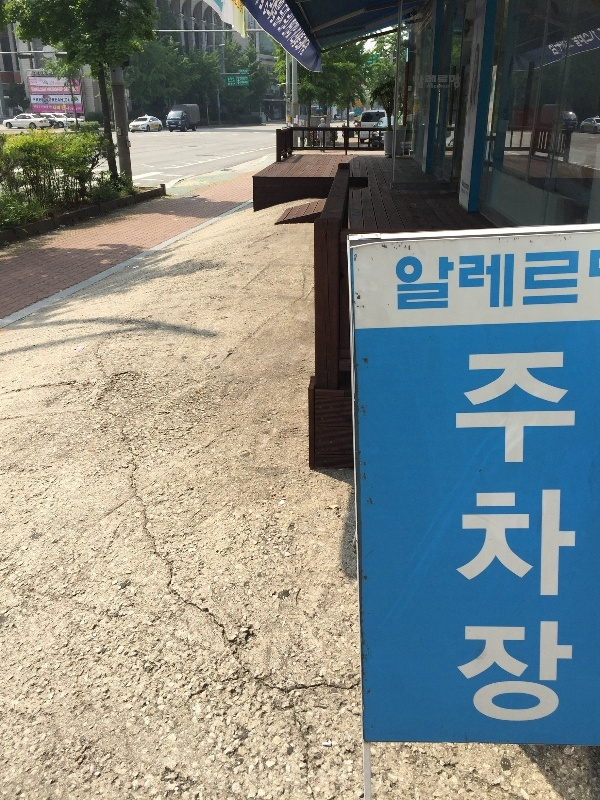text: (465, 344, 480, 734), (481, 344, 496, 734), (497, 344, 512, 734), (513, 344, 528, 734), (529, 344, 544, 734), (545, 344, 560, 734), (561, 344, 576, 734), (452, 344, 464, 734), (401, 247, 416, 316), (417, 247, 432, 316), (433, 247, 448, 316), (449, 247, 464, 316), (465, 247, 480, 316), (481, 247, 496, 316), (497, 247, 512, 316), (513, 247, 528, 316), (529, 247, 544, 316), (545, 247, 560, 316), (561, 247, 576, 316), (257, 1, 272, 60), (273, 1, 288, 60), (289, 1, 304, 60), (577, 344, 578, 734), (395, 247, 400, 316), (577, 247, 582, 316), (305, 1, 310, 60), (417, 74, 432, 91), (433, 74, 448, 91), (449, 74, 462, 91), (65, 86, 80, 92), (433, 83, 448, 89), (49, 98, 64, 103), (34, 98, 48, 103), (66, 97, 80, 102), (33, 88, 47, 93), (53, 105, 64, 111), (49, 88, 63, 92), (413, 74, 416, 91), (465, 179, 469, 191), (49, 81, 55, 86), (427, 83, 432, 89), (65, 105, 69, 112), (43, 81, 48, 86), (462, 179, 464, 191), (62, 105, 64, 112), (449, 83, 451, 89), (47, 88, 48, 92)
